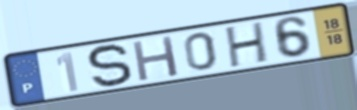0: (181, 31, 223, 73)
1: (55, 50, 81, 94)
6: (272, 16, 314, 60)
H: (130, 33, 182, 84), (224, 19, 270, 70)
S: (85, 42, 136, 91)
